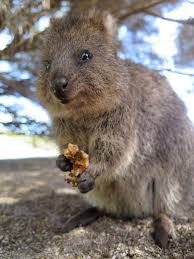quokka: (17, 8, 194, 236)
